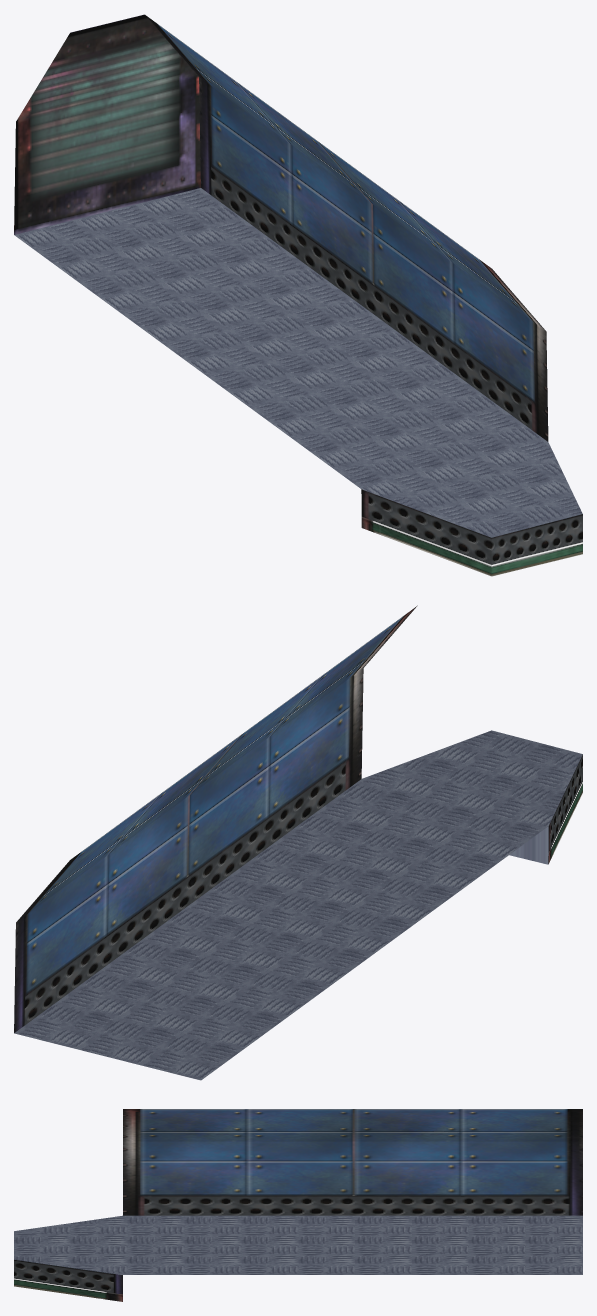
3 renders of one model, top to bottom at view 1: azimuth 30°, elevation 25°; view 2: azimuth 150°, elevation 25°; view 3: azimuth 270°, elevation 25°, orthographic. The views are drawn at different scales.
Visible parts, largest first — view 1: Mesh01; view 2: Mesh01; view 3: Mesh01.
Boxes of the visible parts, x1=… form: Mesh01: x1=14, y1=14, x2=582, y2=576; Mesh01: x1=14, y1=605, x2=582, y2=1080; Mesh01: x1=14, y1=1109, x2=582, y2=1301.
Size of the model in its own units: 429 by 498 by 1704.
3 materials, 3 textured.
